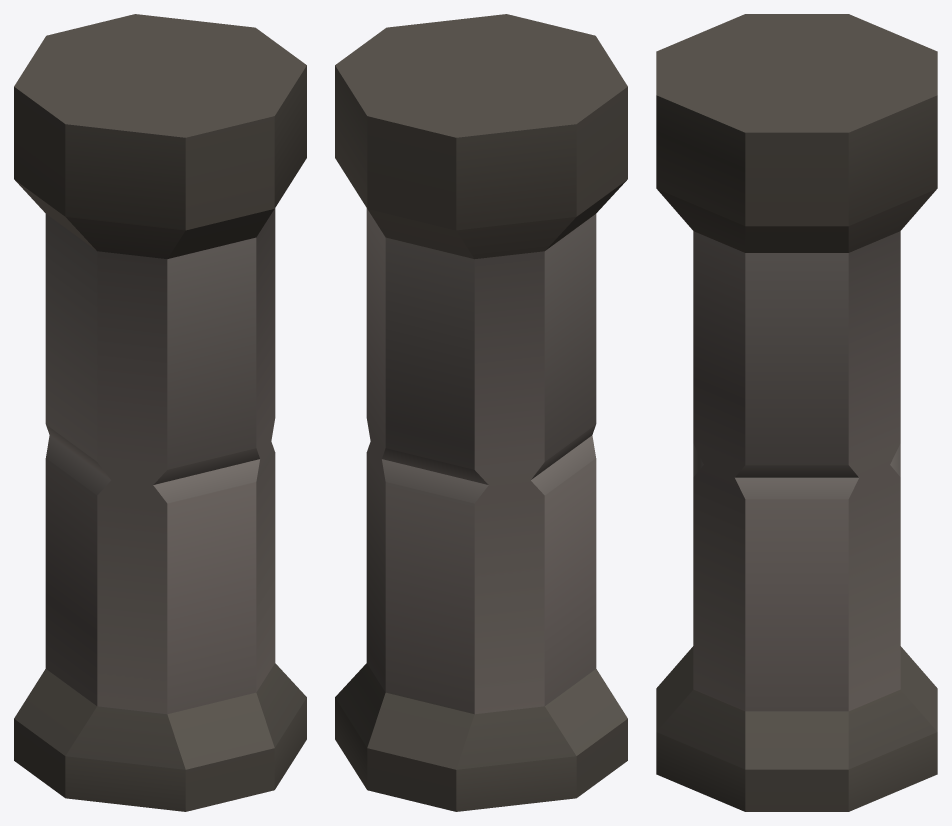
Rendered from kaykit_dungeon_pillar.glb.
3 views of the same model, side by side, from view 1: azimuth 30°, elevation 25°; view 2: azimuth 150°, elevation 25°; view 3: azimuth 270°, elevation 25° (orthographic).
Parts seen in each view (by area): view 1: pillar; view 2: pillar; view 3: pillar.
Part boxes in pixels (left/top/right/bottom): pillar: left=14, top=14, right=306, bottom=811; pillar: left=335, top=14, right=627, bottom=811; pillar: left=656, top=14, right=937, bottom=811.
Size of the model in its own units: 1.5 by 4 by 1.5.
Materials: 1 (1 with a texture image).
